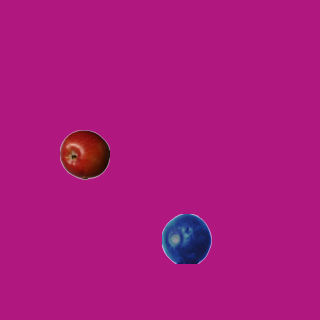Apple Braeburn: (59, 129, 109, 179)
Huckleberry: (161, 213, 211, 263)
